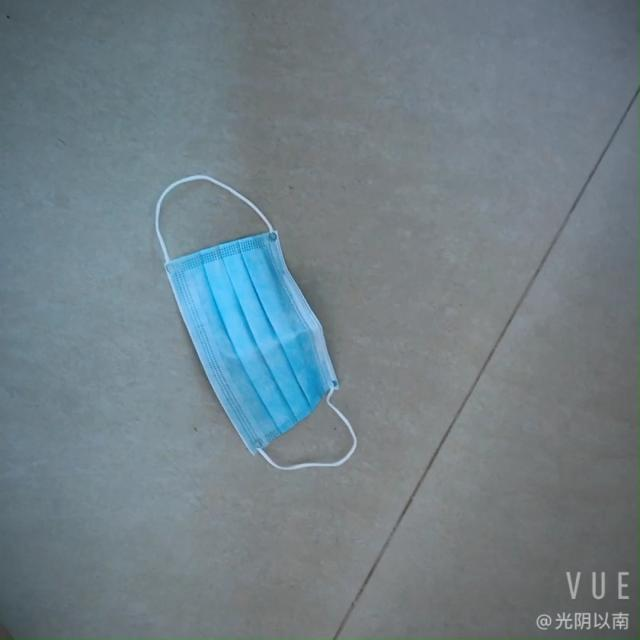face mask: (155, 225, 331, 463)
